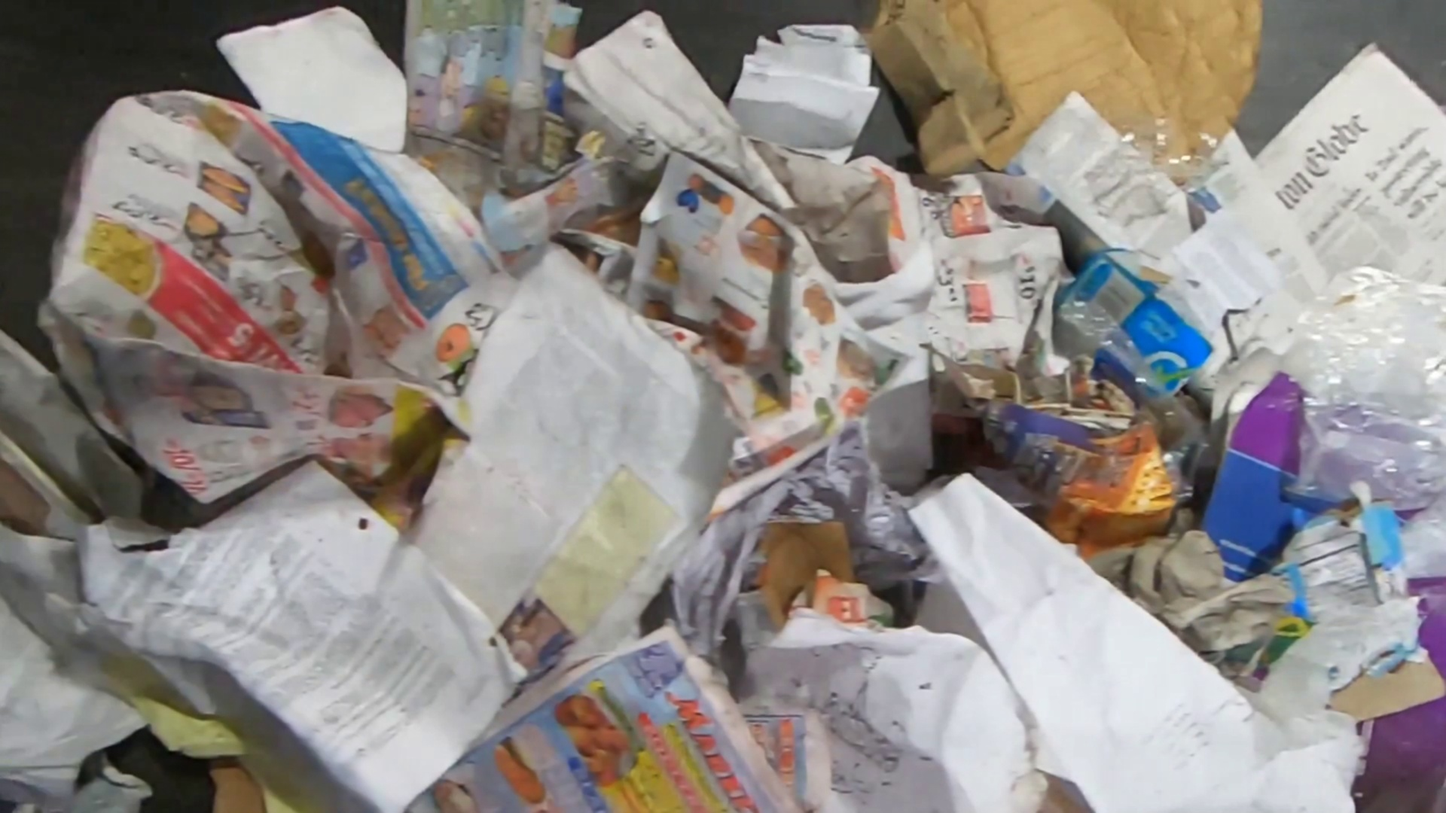cardboard: (864, 0, 1268, 178), (915, 342, 1181, 561), (1268, 479, 1446, 722), (1196, 345, 1356, 585), (1056, 247, 1217, 432), (1350, 575, 1446, 813), (748, 520, 859, 624), (1051, 318, 1138, 399), (204, 755, 266, 813), (1391, 508, 1425, 530)
plastic: (1282, 264, 1446, 580), (1056, 301, 1209, 501), (1079, 99, 1232, 229)
